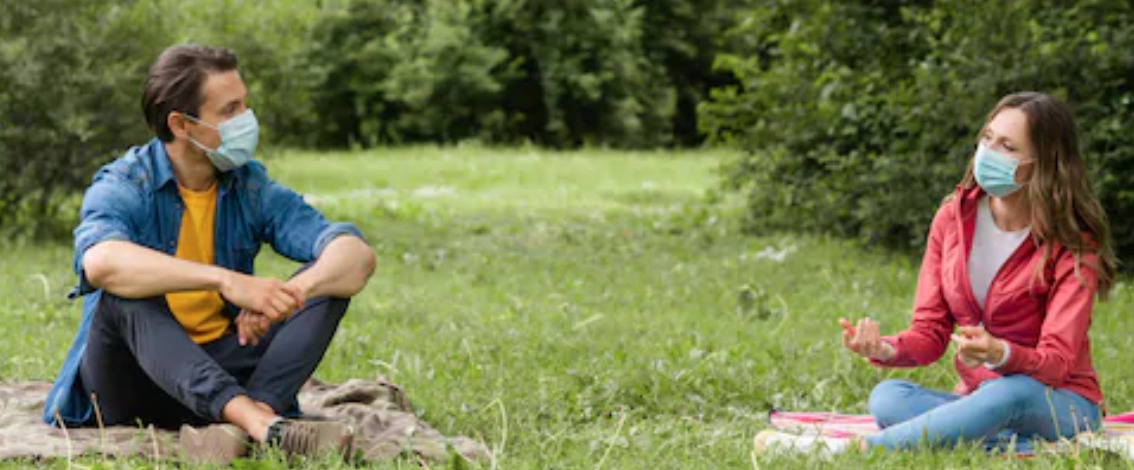Good: (46, 37, 1116, 458)
